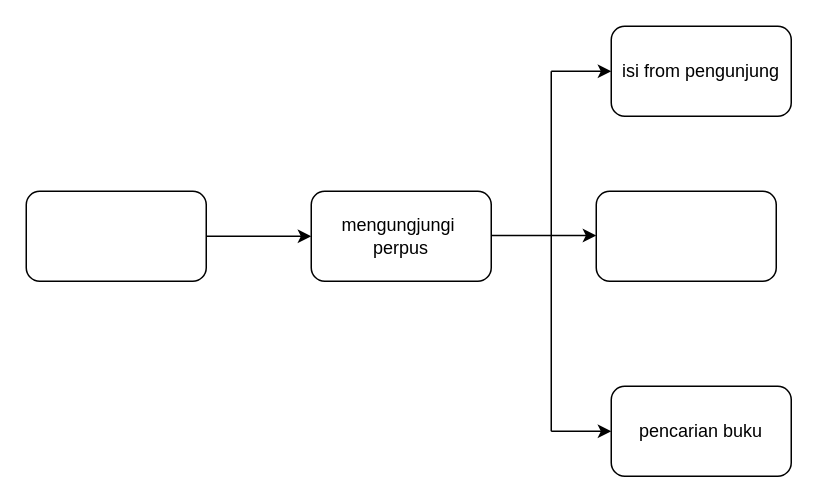
Image size: 818x503. Some labels were removed from this diagram. Each missing label, with the centre of its shape:
"lihat daftar pengunjung" goes at (x=685, y=235).
"user" goes at (x=115, y=235).
